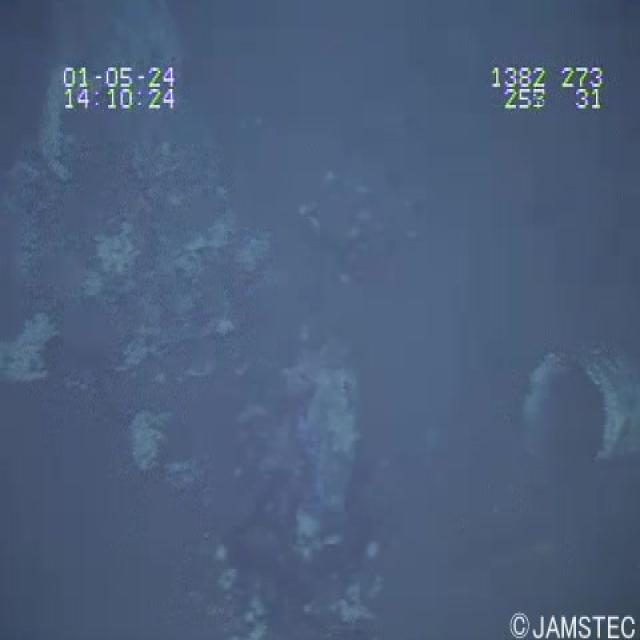plastic: (518, 331, 638, 480)
